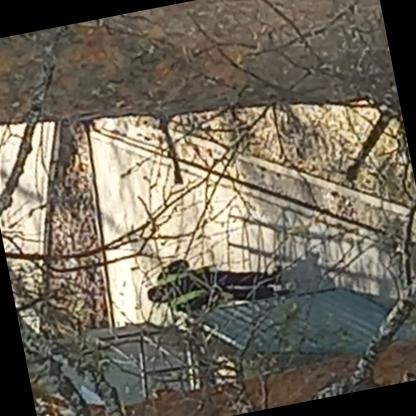Human Body: (136, 228, 293, 326)
